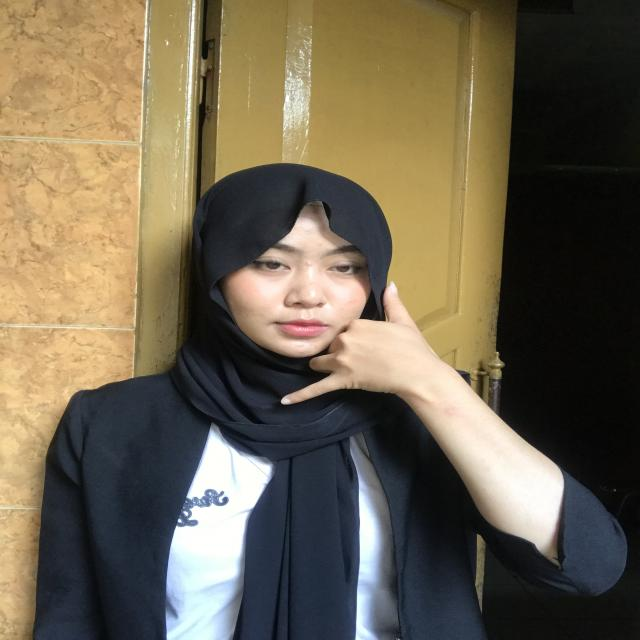telpon: (278, 278, 428, 414)
